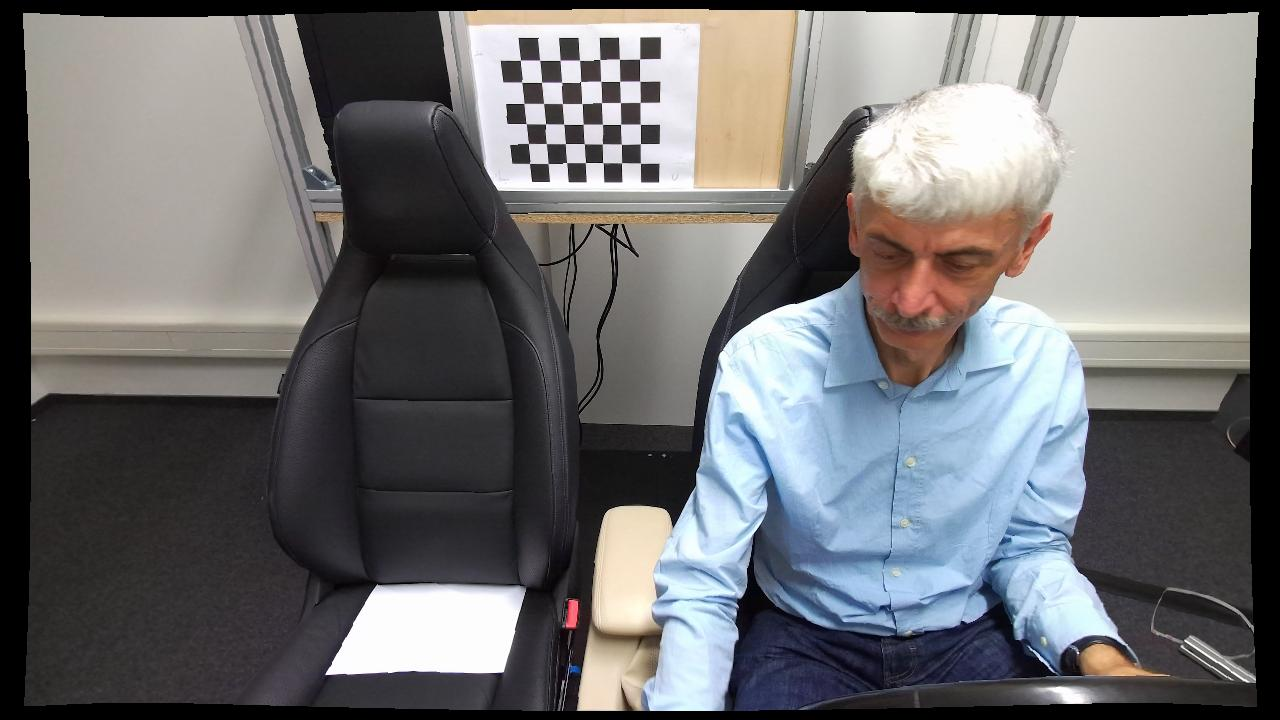Distracted: (644, 76, 1097, 713)
